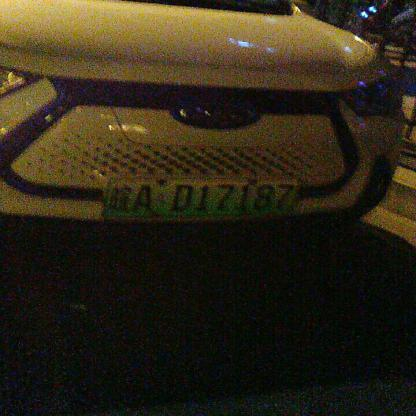lp: (103, 176, 300, 217)
